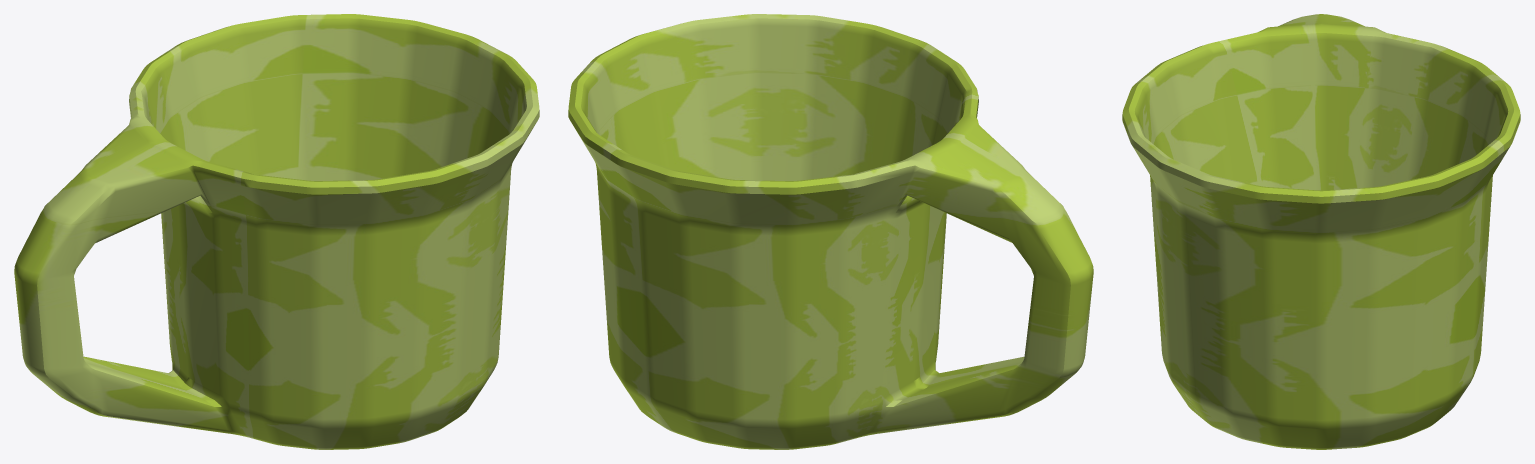
The model's file is mug.fbx.
The picture shows the model from 3 angles, left to right: view 1: azimuth 30°, elevation 25°; view 2: azimuth 150°, elevation 25°; view 3: azimuth 270°, elevation 25°; orthographic projection. The views are drawn at different scales.
Visible parts, largest first — view 1: pCylinder14; view 2: pCylinder14; view 3: pCylinder14.
Part boxes in pixels (x1,y1,x2,y2): pCylinder14: [14, 14, 539, 449]; pCylinder14: [568, 14, 1093, 449]; pCylinder14: [1122, 14, 1520, 449].
Bounding box in the file's own units: 1.42 × 0.8066 × 1.02.
